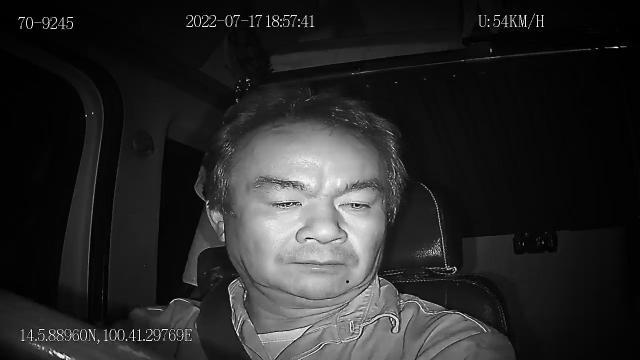SafeDriving: (256, 186, 312, 215), (330, 187, 382, 218)
Seatbelt: (194, 276, 254, 360)
